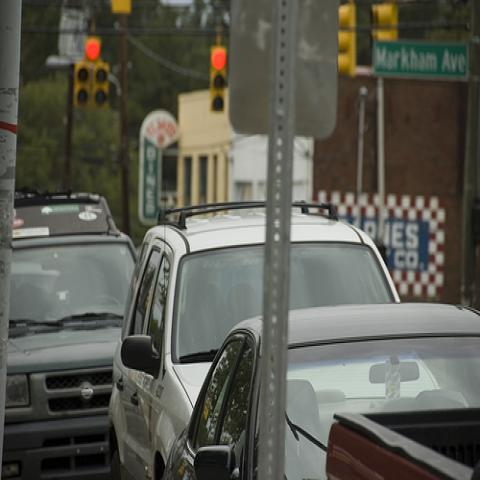car: (106, 207, 404, 475), (164, 298, 479, 476)
truck: (0, 189, 139, 478), (325, 399, 479, 479)
